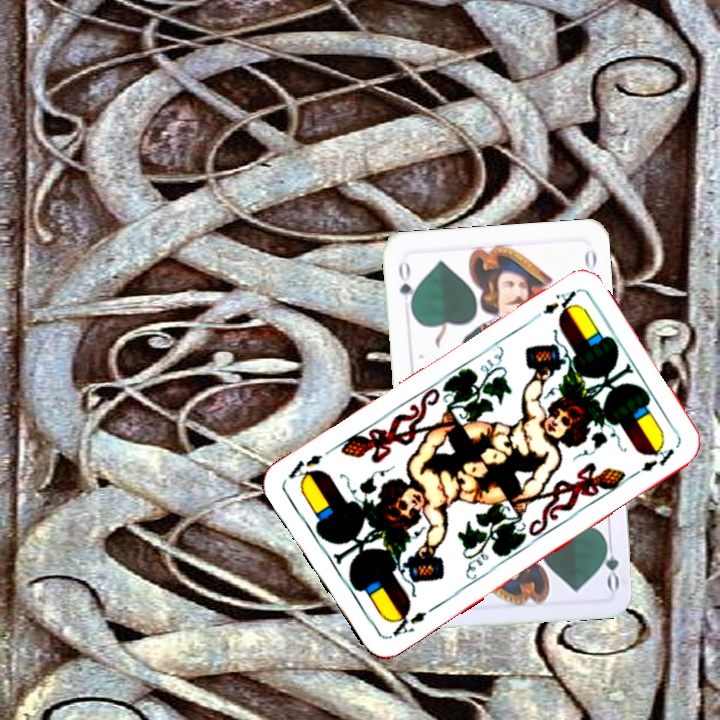EA: (527, 286, 579, 325), (386, 605, 430, 641)
GO: (596, 533, 622, 592), (394, 256, 418, 315)
